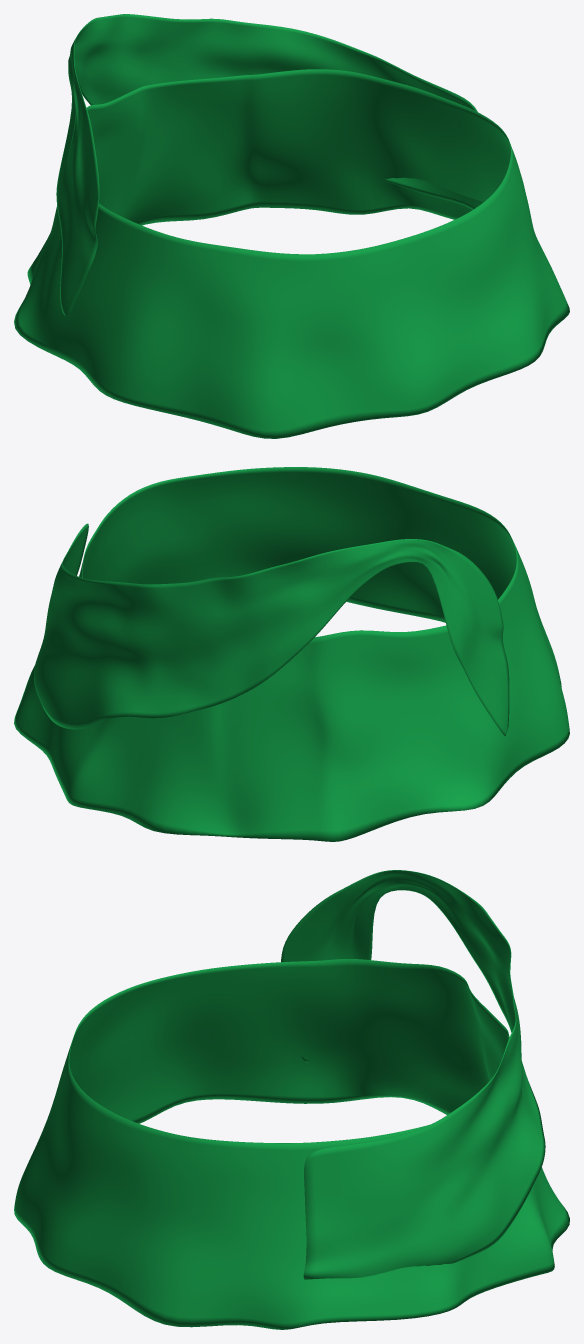
The model's file is clothes.fbx.
The picture shows the model from 3 angles, top to bottom: view 1: azimuth 30°, elevation 25°; view 2: azimuth 150°, elevation 25°; view 3: azimuth 270°, elevation 25°; orthographic projection. The views are drawn at different scales.
Parts seen in each view (by area): view 1: Dress; view 2: Dress; view 3: Dress.
Boxes of the visible parts, x1=… form: Dress: x1=14, y1=14, x2=569, y2=438; Dress: x1=14, y1=467, x2=569, y2=841; Dress: x1=14, y1=870, x2=569, y2=1329.
Size of the model in its own units: 233 by 129 by 235.
